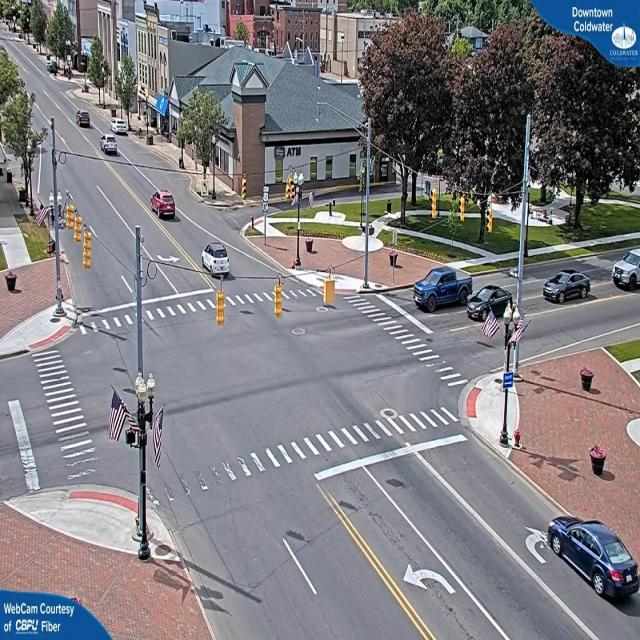car: (546, 521, 640, 607), (413, 265, 470, 311), (467, 284, 519, 326), (544, 268, 594, 304), (611, 250, 640, 291), (200, 244, 232, 278), (150, 190, 178, 219), (100, 134, 118, 156), (77, 112, 93, 128), (114, 120, 128, 136)
